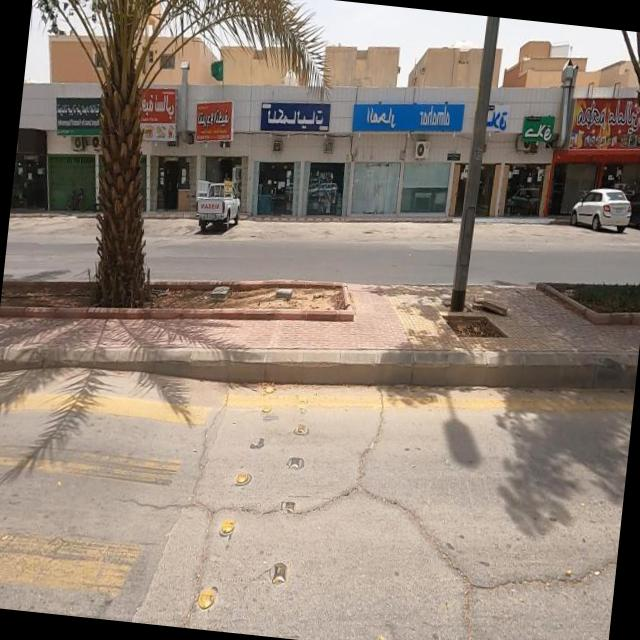debris: (242, 250, 320, 344), (182, 240, 259, 334)
